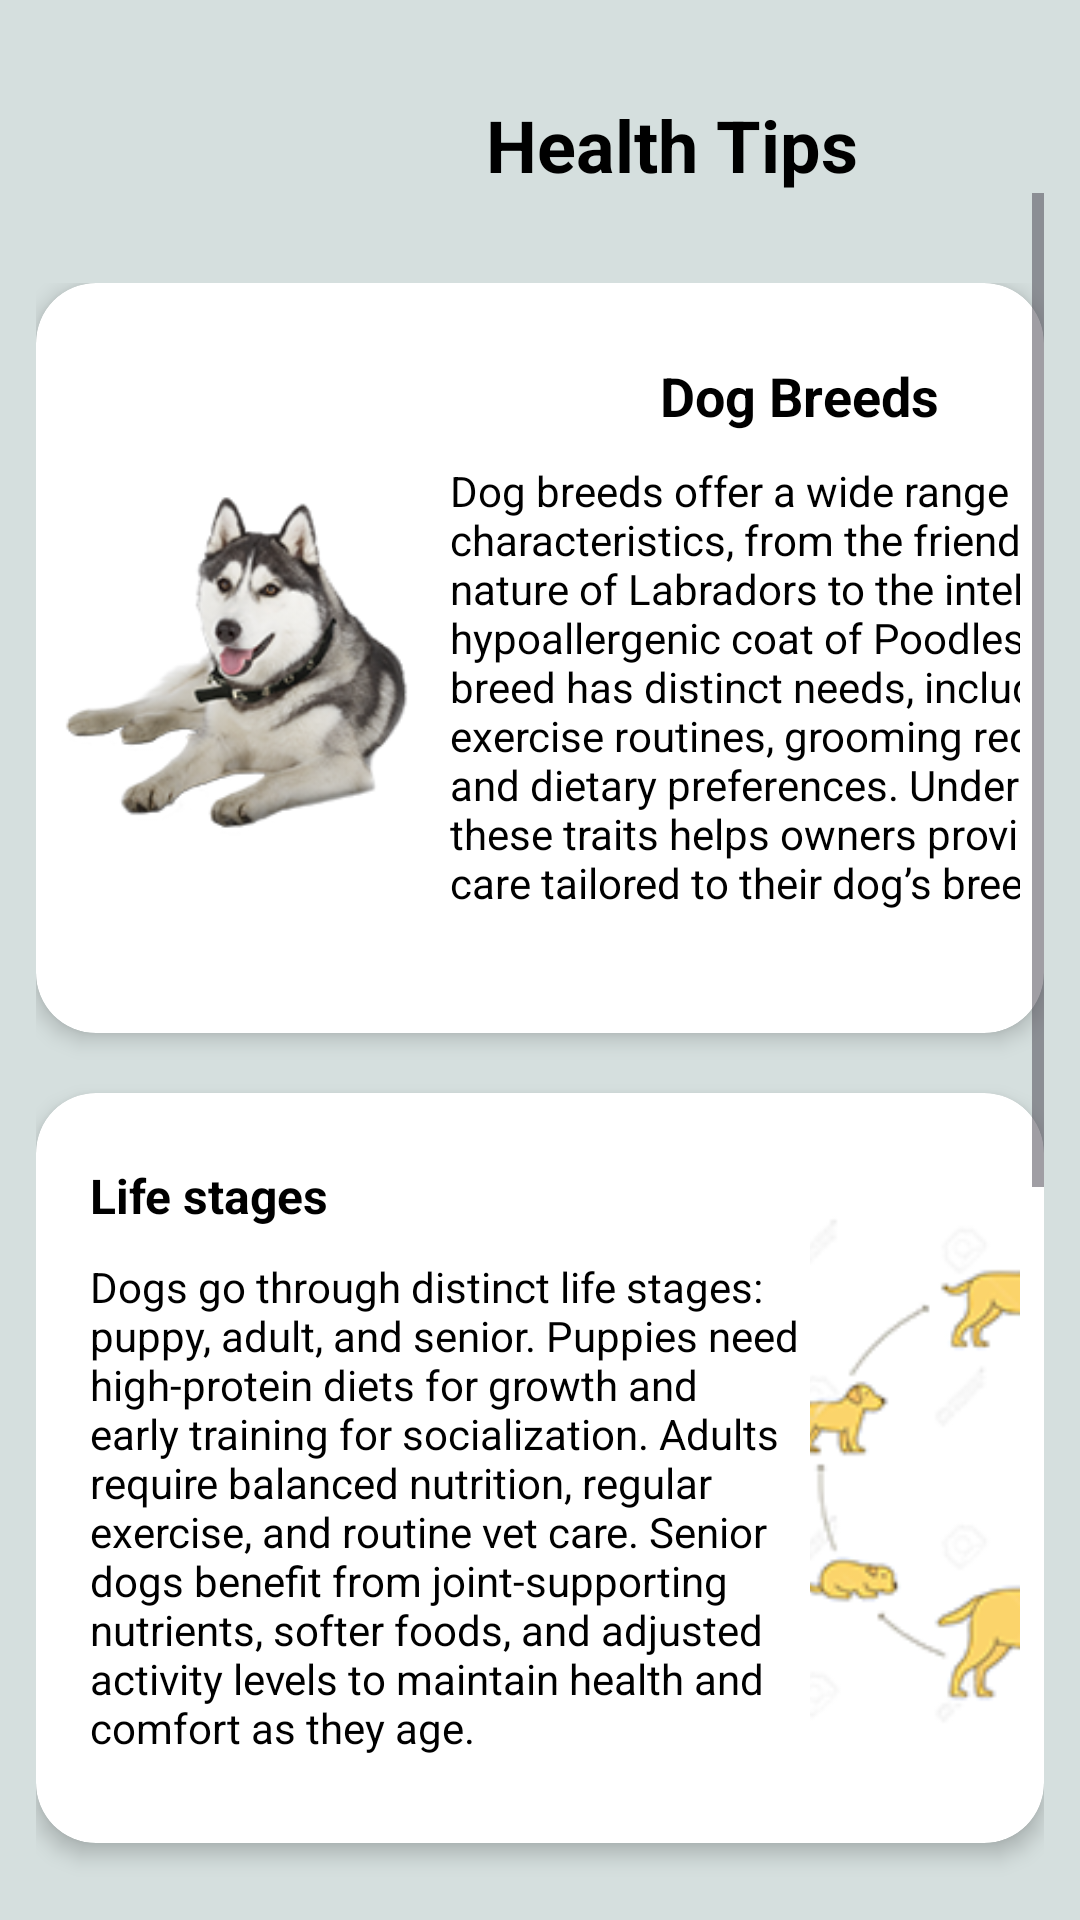

Named icons in this screenshot (1080×1920) and their bounding boxes, (x1, y1, x2, y2):
husky: (66, 497, 407, 828)
